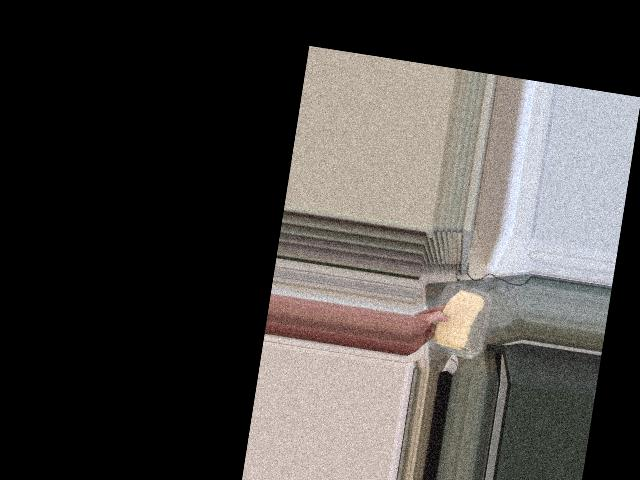cheese: (427, 281, 488, 359)
